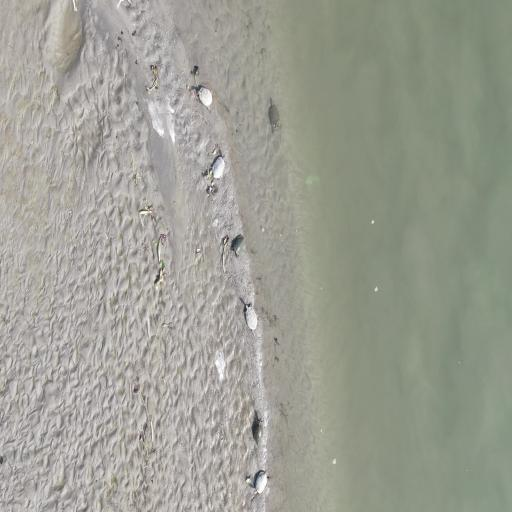turtle: (243, 302, 260, 332), (269, 97, 282, 133), (254, 468, 269, 496), (198, 84, 214, 110), (212, 155, 226, 180), (231, 234, 245, 258), (252, 416, 264, 442)
